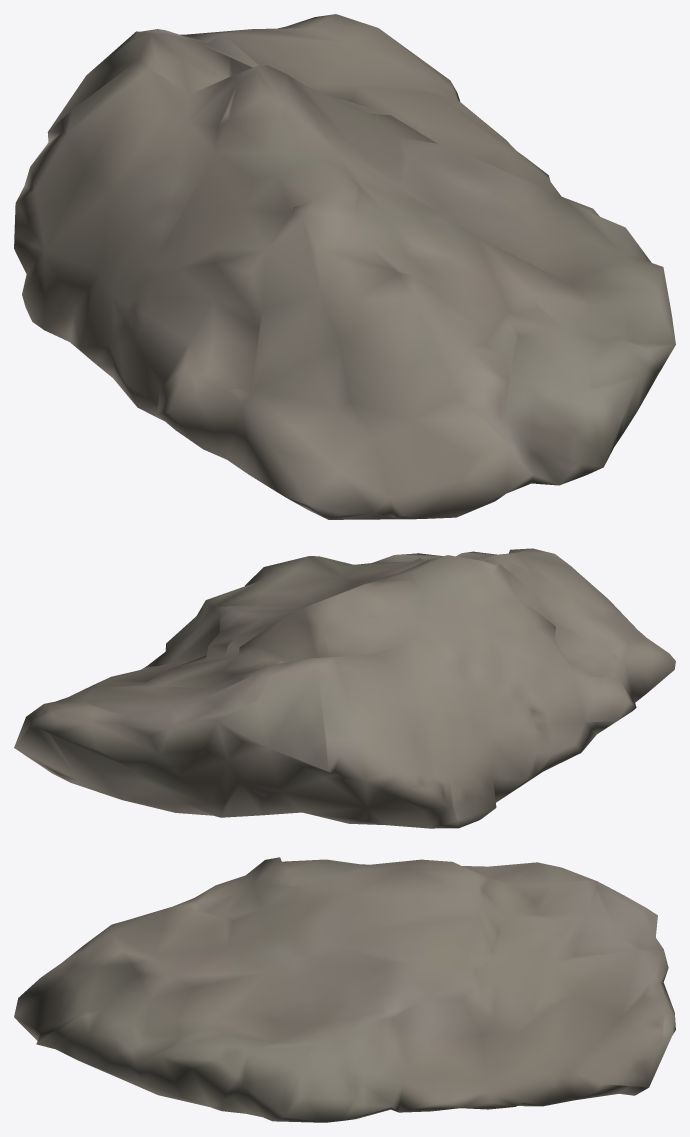
The model's file is moon_rock_04_lod2.glb.
The picture shows the model from 3 angles, top to bottom: view 1: azimuth 30°, elevation 25°; view 2: azimuth 150°, elevation 25°; view 3: azimuth 270°, elevation 25°; orthographic projection. The views are drawn at different scales.
Parts seen in each view (by area): view 1: moon_rock_04_LOD0; view 2: moon_rock_04_LOD0; view 3: moon_rock_04_LOD0.
Boxes of the visible parts, x1,y1,x2,y2 form: moon_rock_04_LOD0: (14,14,675,519); moon_rock_04_LOD0: (14,548,675,828); moon_rock_04_LOD0: (14,857,675,1122).
Bounding box in the file's own units: 0.1197 × 0.0535 × 0.1738.
1 material, 1 textured.
